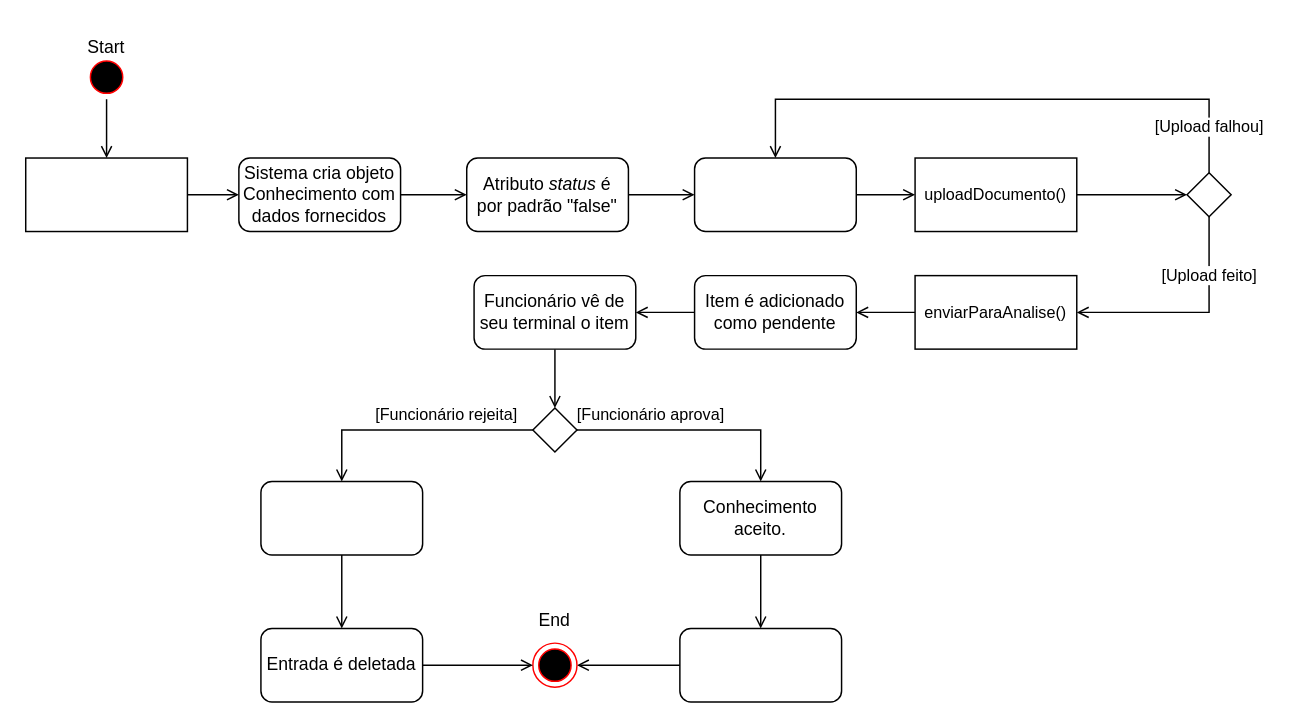
Image size: 1289x728. Some labels were removed from this diagram. The centre of each missing label's shape, as x and y in pixels:
adicionarConhecimento(): the point at 105,194
Atributo status muda para "True": the point at 760,664
Conhecimento recusado: the point at 341,517
Faz upload para armazenamento persistente: the point at 774,194
